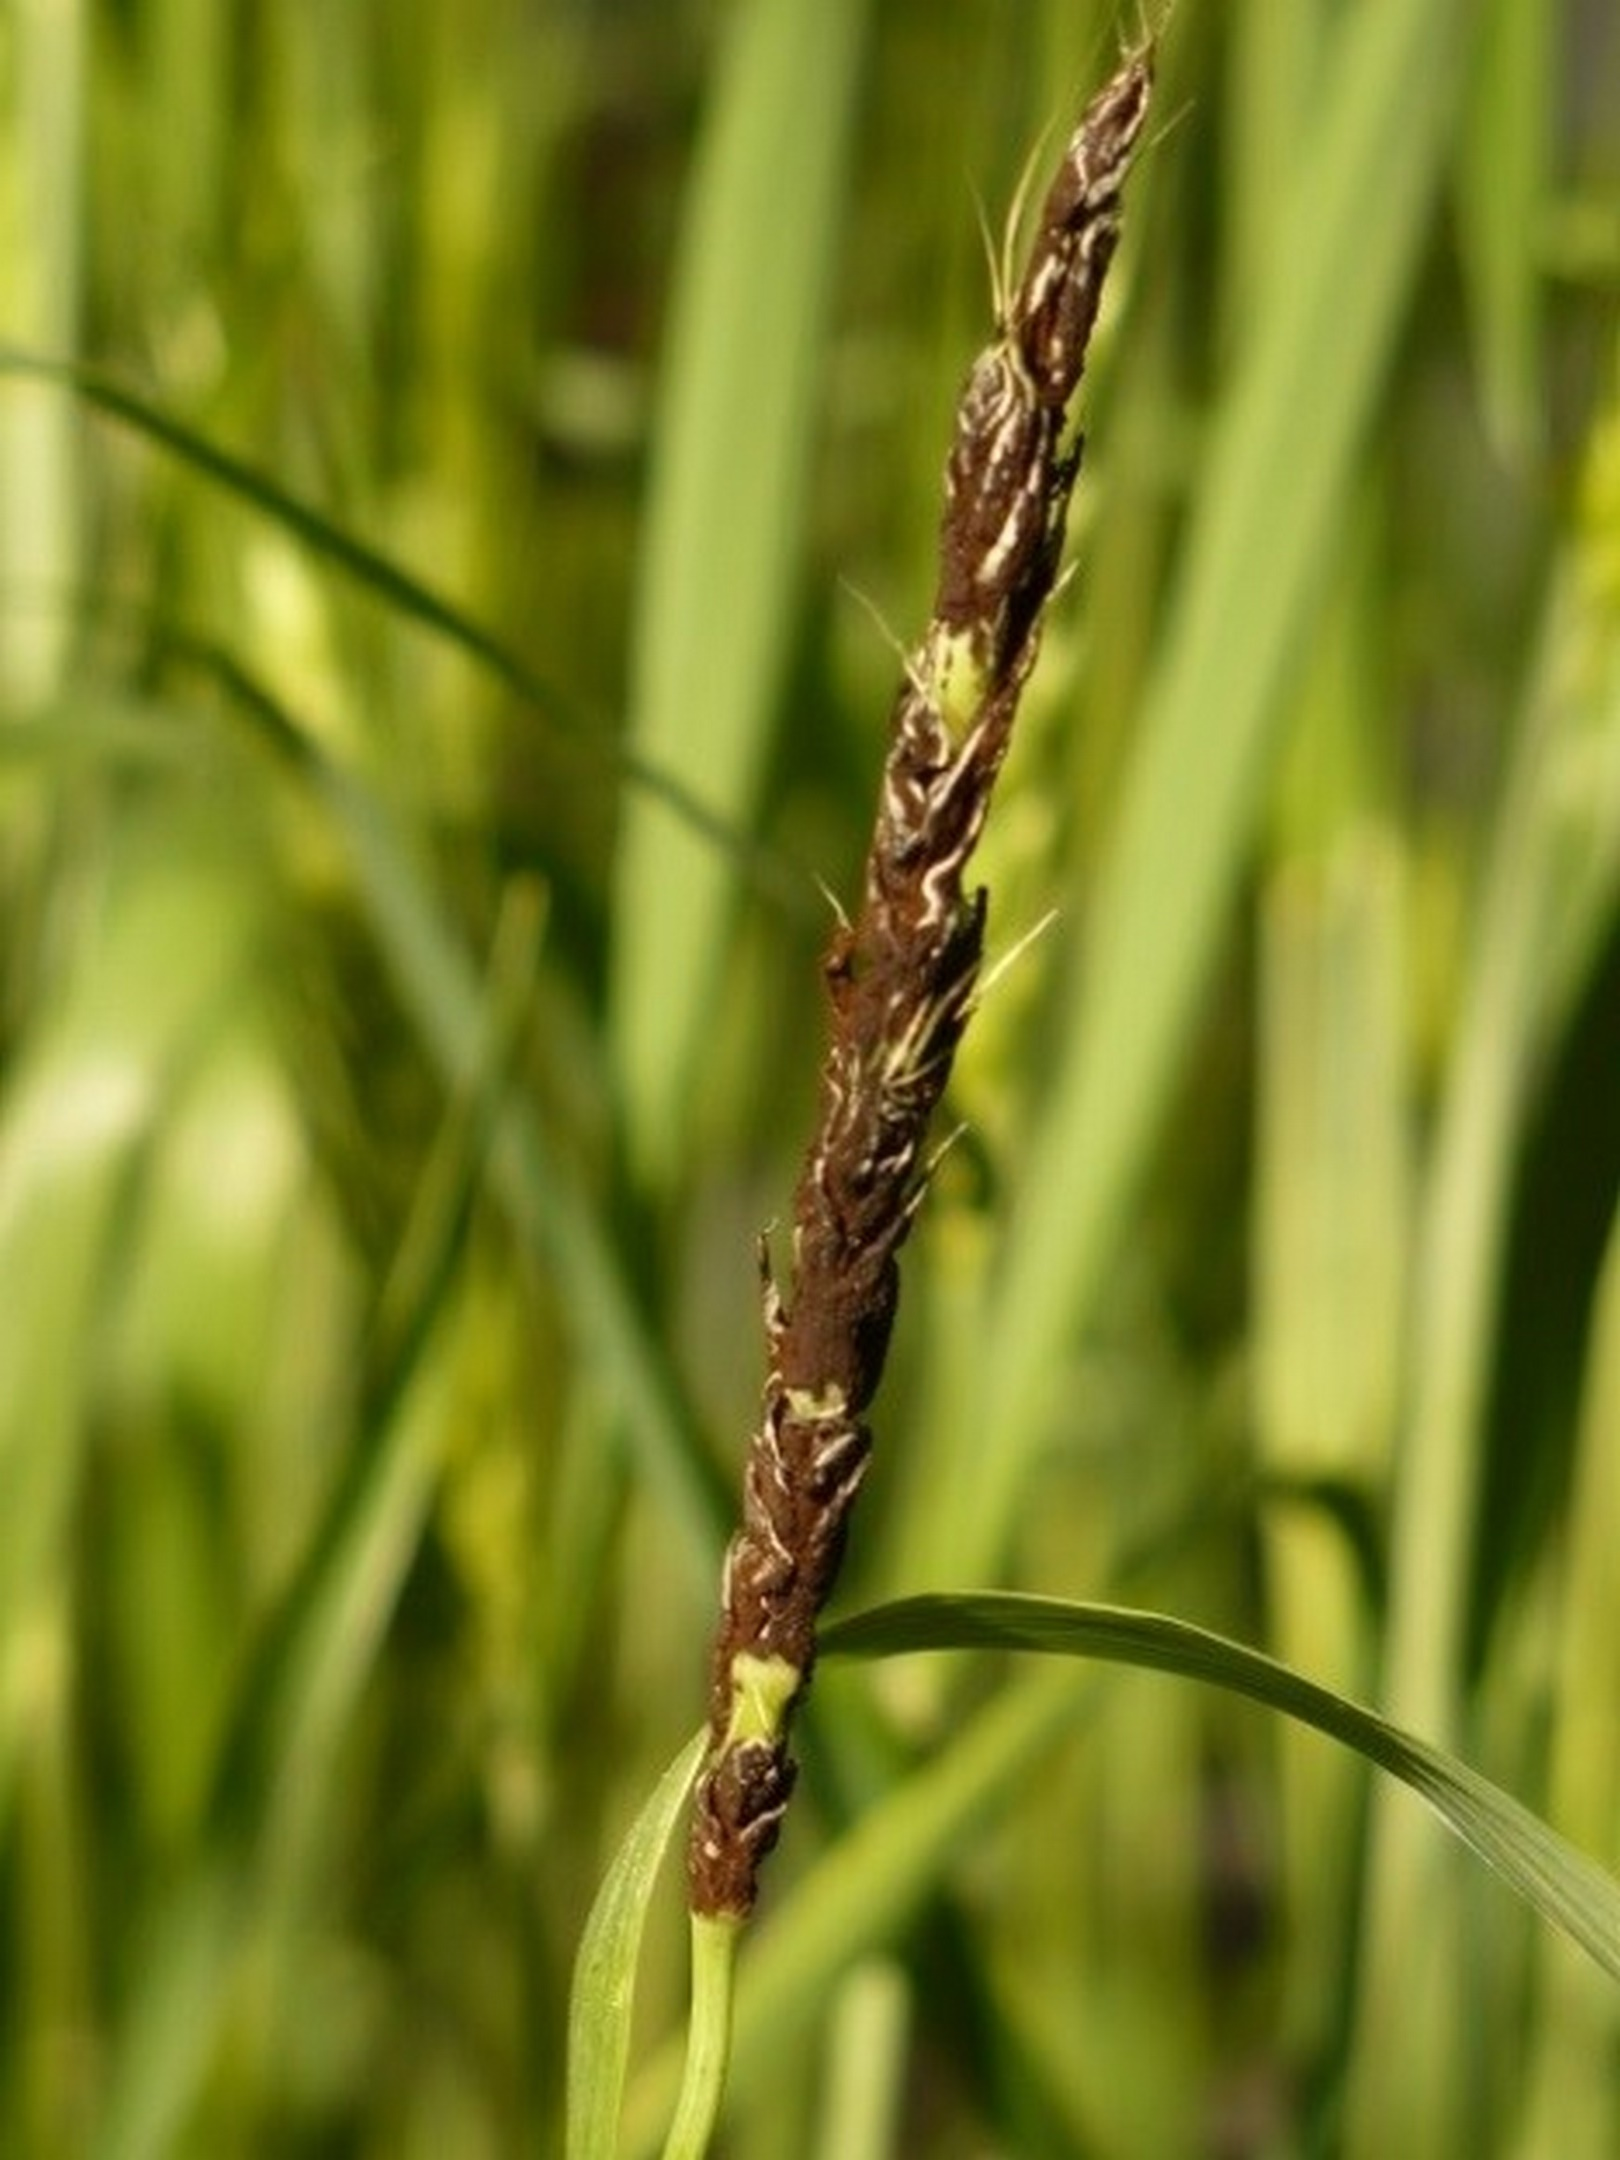Wheat Loose Smut: (672, 83, 1232, 1886)
